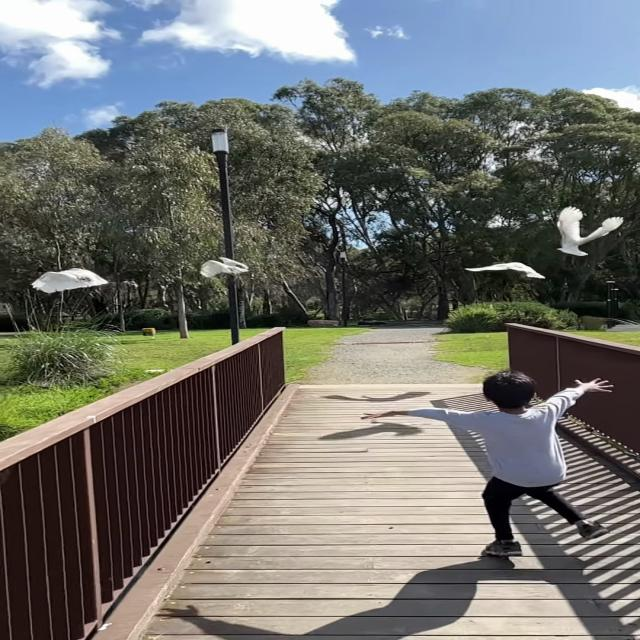Birds-Ibis: (548, 204, 628, 257), (28, 265, 112, 295), (462, 261, 550, 282), (197, 256, 252, 280)
